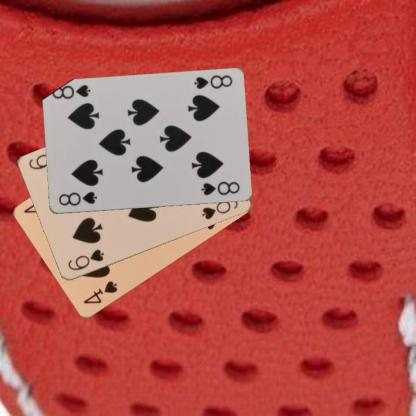4s: (80, 278, 118, 306)
6s: (65, 247, 105, 272)
8s: (56, 189, 98, 207), (192, 73, 234, 91)
